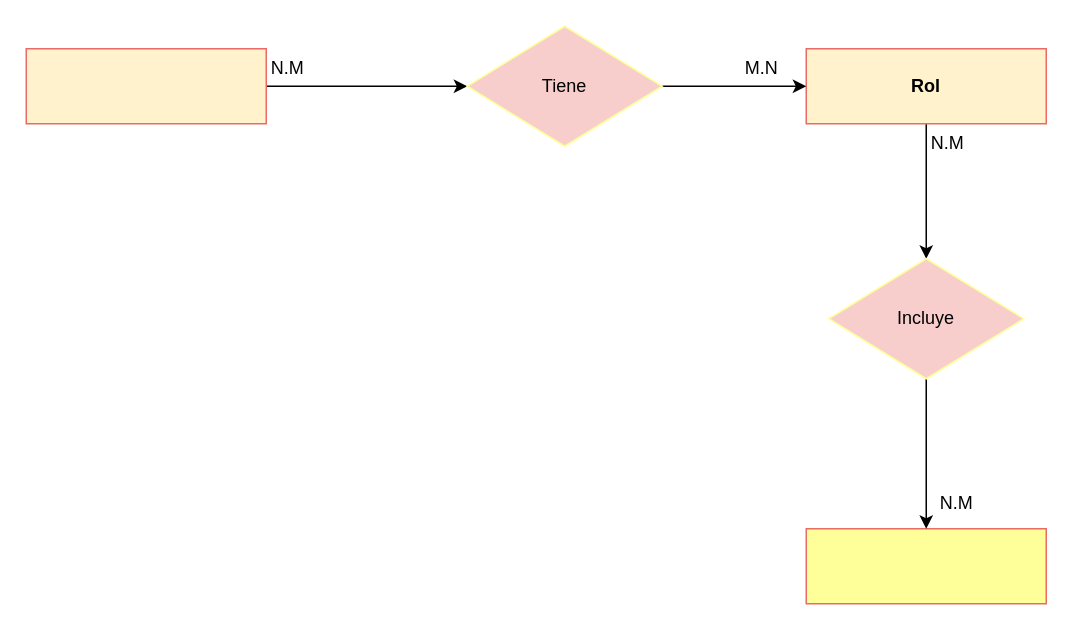
The diagram is 1073 pixels wide and 630 high, and some of its shapes have lost their labels. The shapes that lost their labels are listed below. From the top down, each one's box as (x1, y1, x2, y2) in pixels, then its label:
(25, 47, 266, 124): Usuario
(805, 527, 1046, 604): Permiso
